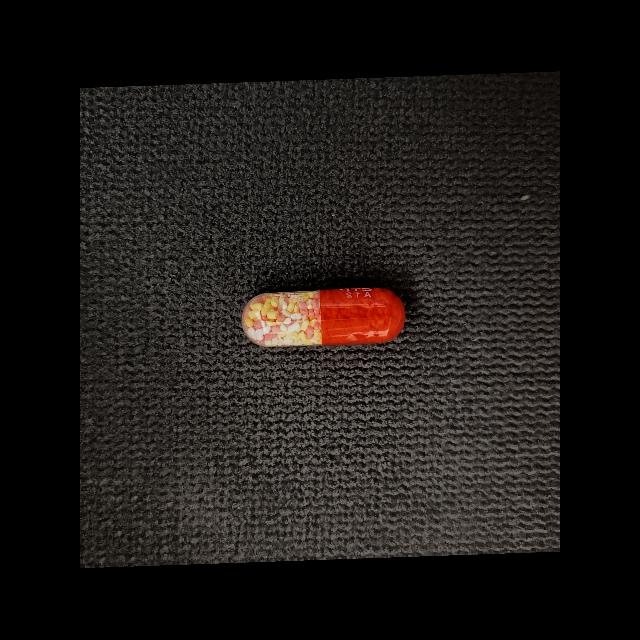Intact Capsule: (242, 288, 406, 347)
